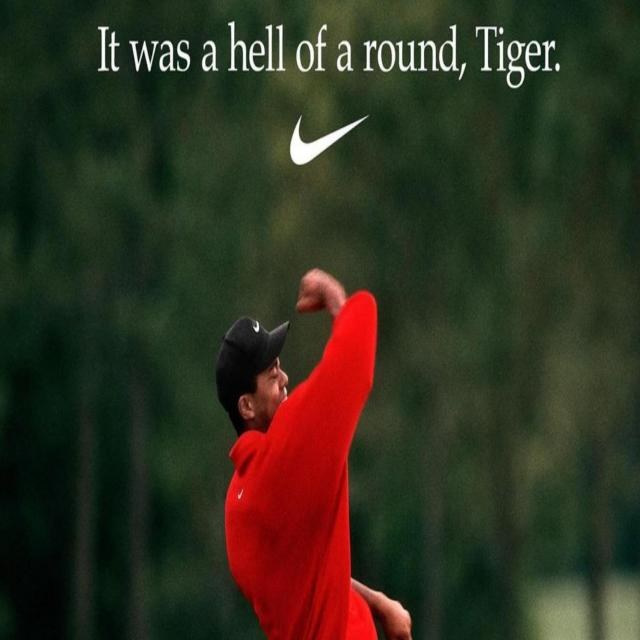nike: (286, 100, 370, 194)
